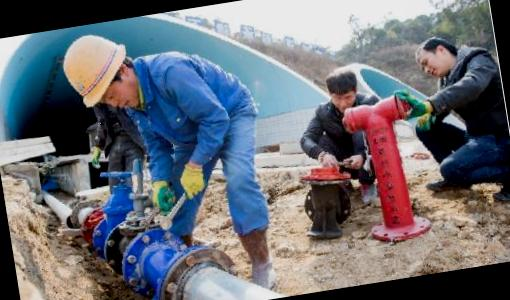no_helmet: (402, 32, 464, 86), (318, 63, 364, 116)
